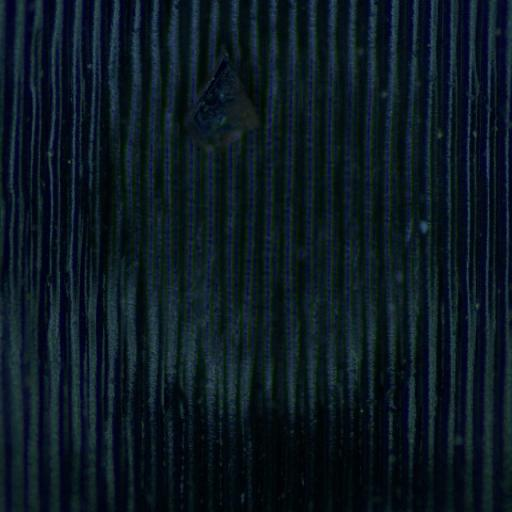mineral: (185, 49, 259, 148)
